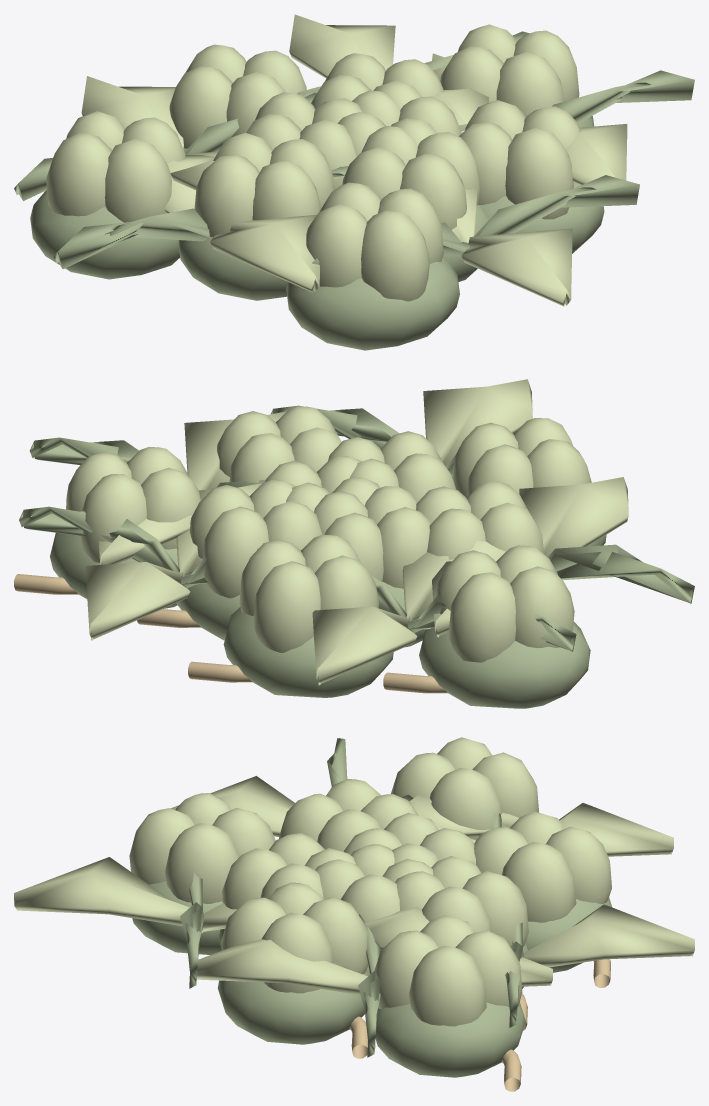
Rendered from bio_oxygen_reef_05_far.glb.
3 renders of one model, top to bottom at view 1: azimuth 30°, elevation 25°; view 2: azimuth 150°, elevation 25°; view 3: azimuth 270°, elevation 25°, orthographic. The views are drawn at different scales.
Visible parts, largest first — view 1: Lobed gas sac.028, Lobed gas sac.036, Lobed gas sac.016, Lobed gas sac.020, Photosynthetic cushion.007, Lobed gas sac.032, Lobed gas sac.024, Lobed gas sac.008, Low buttress leaf.009, Low buttress leaf.017, Photosynthetic cushion.009, Low buttress leaf.013 (+12 smaller); view 2: Lobed gas sac.036, Lobed gas sac.024, Lobed gas sac.032, Lobed gas sac.012, Photosynthetic cushion.009, Lobed gas sac.028, Low buttress leaf.005, Lobed gas sac.004, Lobed gas sac.016, Lobed gas sac.020, Low buttress leaf.013, Low buttress leaf.017 (+16 smaller); view 3: Lobed gas sac.032, Lobed gas sac.028, Lobed gas sac.024, Lobed gas sac.036, Lobed gas sac.020, Photosynthetic cushion.008, Low buttress leaf.013, Low buttress leaf.009, Lobed gas sac.012, Photosynthetic cushion.005, Low buttress leaf.001, Lobed gas sac.016 (+13 smaller).
Boxes of the visible parts, x1,y1,x2,y2 form: Lobed gas sac.028: [306, 182, 443, 301]; Lobed gas sac.036: [46, 111, 185, 222]; Lobed gas sac.016: [194, 132, 334, 237]; Lobed gas sac.020: [459, 100, 580, 219]; Photosynthetic cushion.007: [286, 255, 459, 350]; Lobed gas sac.032: [440, 24, 579, 117]; Lobed gas sac.024: [169, 44, 306, 148]; Lobed gas sac.008: [342, 126, 479, 229]; Low buttress leaf.009: [452, 187, 572, 306]; Low buttress leaf.017: [164, 155, 319, 292]; Photosynthetic cushion.009: [30, 190, 179, 279]; Low buttress leaf.013: [289, 14, 488, 132]; Lobed gas sac.036: [435, 545, 574, 662]; Lobed gas sac.024: [239, 534, 379, 652]; Lobed gas sac.032: [66, 446, 200, 562]; Lobed gas sac.012: [189, 480, 321, 598]; Photosynthetic cushion.009: [419, 621, 590, 708]; Lobed gas sac.028: [452, 418, 591, 497]; Low buttress leaf.005: [312, 540, 505, 685]; Lobed gas sac.004: [314, 486, 431, 588]; Lobed gas sac.016: [416, 481, 544, 559]; Lobed gas sac.020: [217, 406, 341, 482]; Low buttress leaf.013: [85, 483, 261, 640]; Low buttress leaf.017: [432, 477, 628, 637]; Lobed gas sac.032: [374, 915, 522, 1026]; Lobed gas sac.028: [129, 793, 275, 903]; Lobed gas sac.024: [474, 811, 611, 922]; Lobed gas sac.036: [391, 737, 538, 840]; Lobed gas sac.020: [221, 882, 367, 993]; Photosynthetic cushion.008: [375, 1002, 525, 1077]; Low buttress leaf.013: [365, 904, 694, 967]; Low buttress leaf.009: [14, 857, 236, 933]; Lobed gas sac.012: [395, 856, 528, 946]; Photosynthetic cushion.005: [217, 969, 369, 1044]; Low buttress leaf.001: [197, 939, 552, 995]; Lobed gas sac.016: [279, 779, 418, 851].
Size of the model in its own units: 2.22 by 0.4497 by 2.09.
